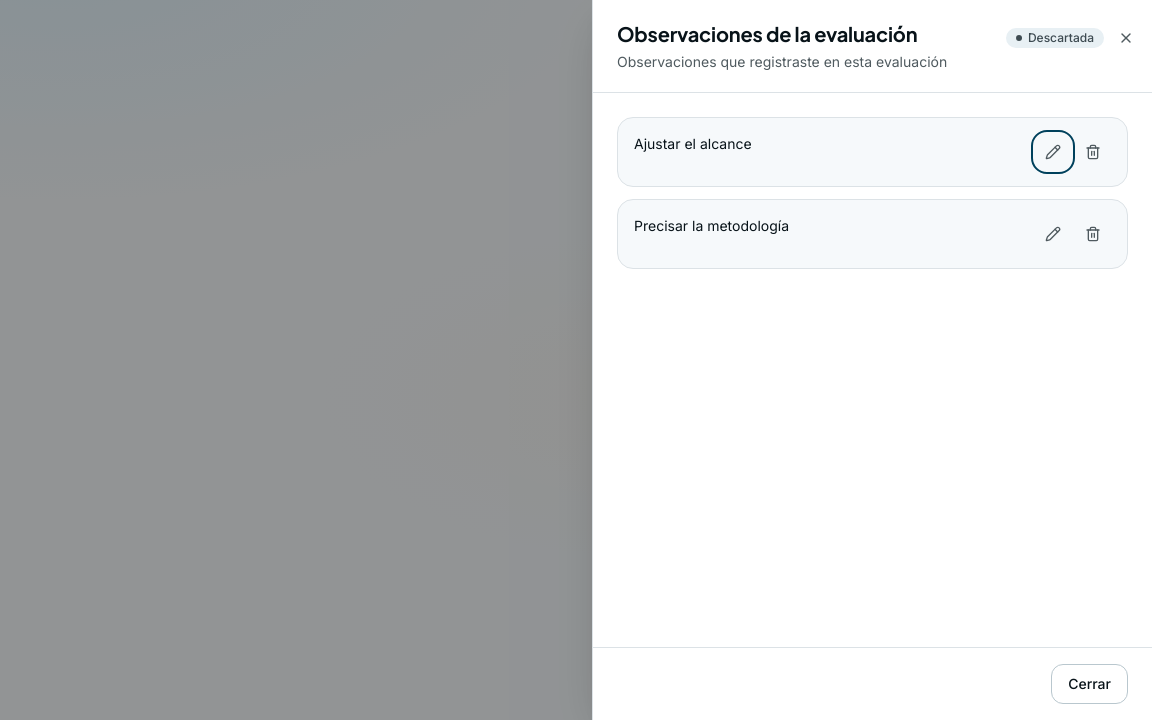
Test case: ObservacionesEvaluacionRepresentantePanel › «Editar observación» abre el formulario con el texto de esa fila y al cerrarlo el panel sigue abierto
The width and height of the screenshot is (1152, 720).
Click the button named "Editar observación" in the row of "Precisar la metodología": (1053,234) x1=1035 y1=216 x2=1071 y2=252
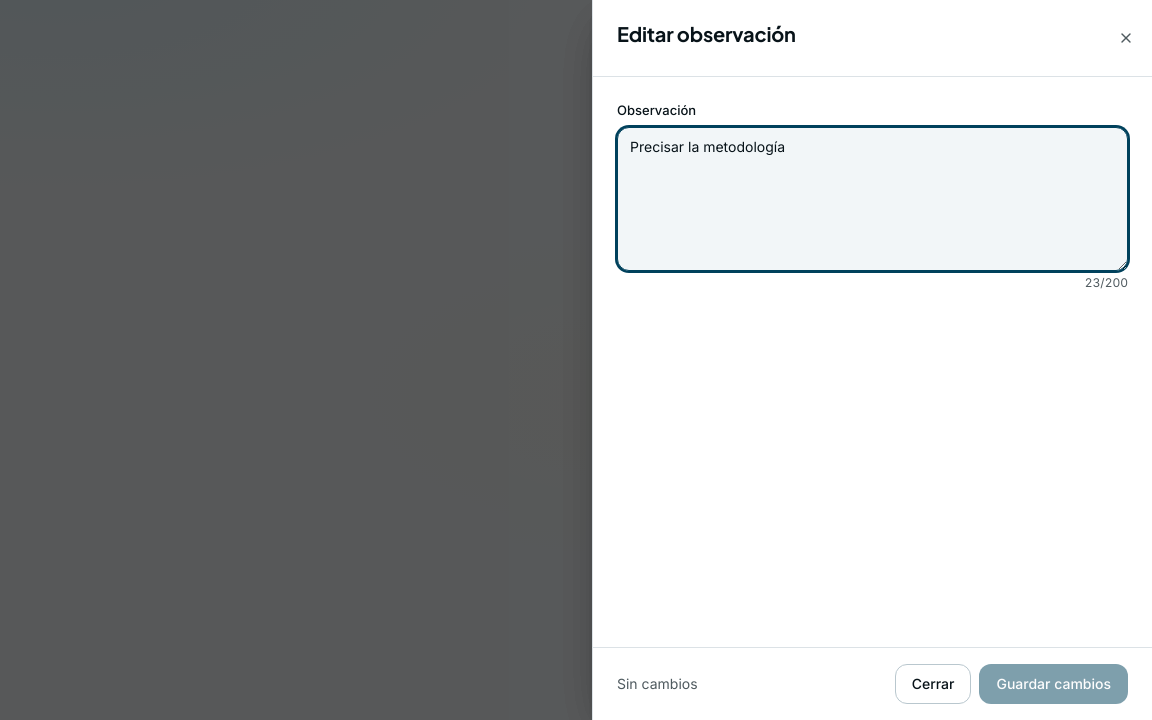
Result: the text box labelled "Observación" holds "Precisar la metodología" at x1=617 y1=126 x2=1128 y2=270
Click the button "Cerrar": (933,684) x1=895 y1=664 x2=972 y2=704
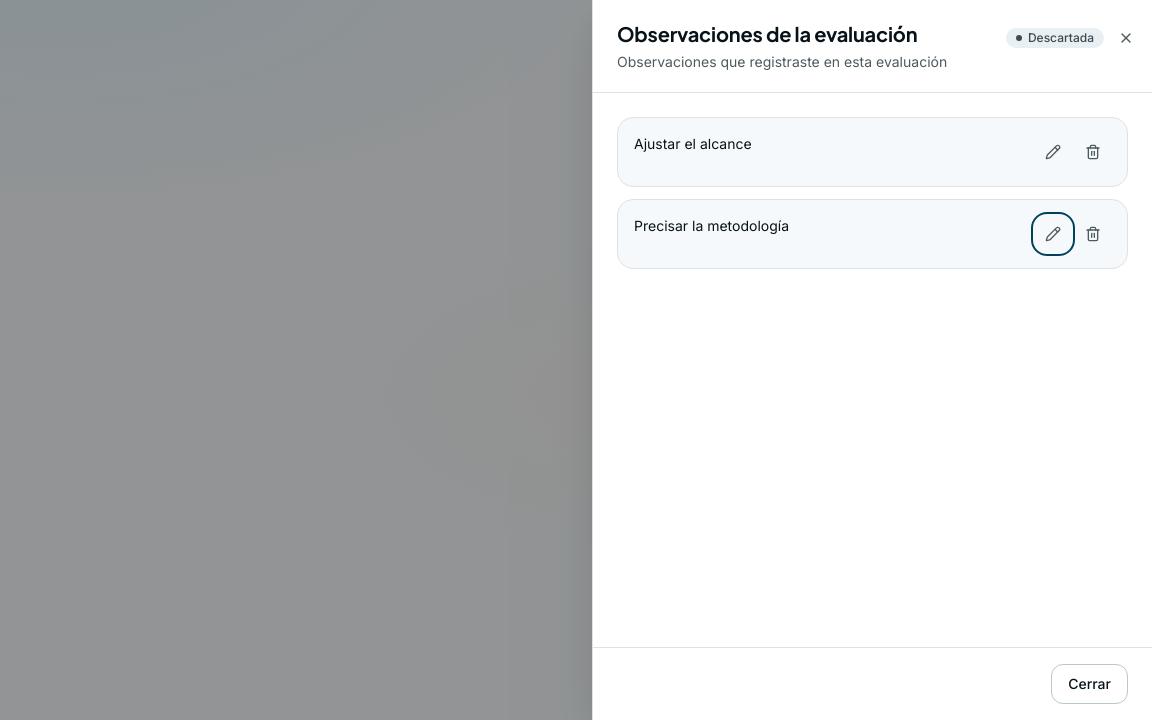
Expected: the text "Ajustar el alcance" is shown, x1=634 y1=135 x2=752 y2=152
Result: the heading "observación" is gone
